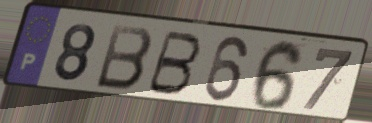6: (248, 37, 307, 113), (203, 35, 250, 104)
7: (299, 46, 357, 112)
8: (53, 22, 98, 84)
B: (93, 22, 156, 93), (143, 28, 204, 98)
